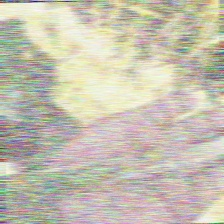Leaf_Blast: (67, 148, 217, 171)
